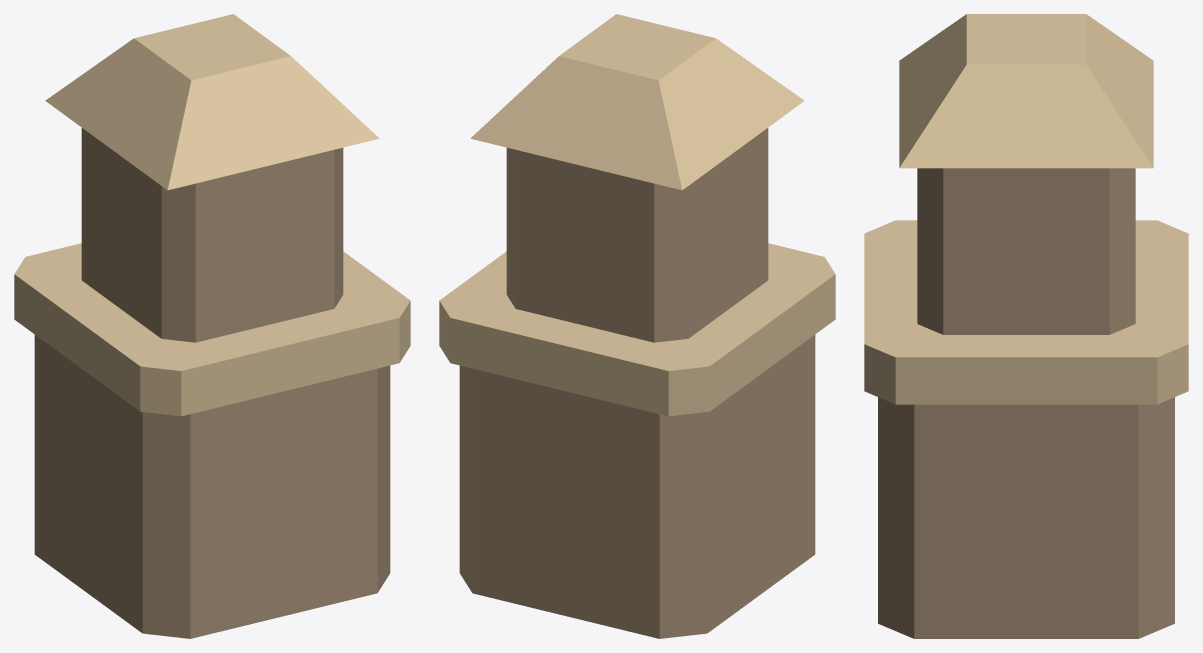
Rendered from parapet_finial.glb.
The picture shows the model from 3 angles, left to right: view 1: azimuth 30°, elevation 25°; view 2: azimuth 150°, elevation 25°; view 3: azimuth 270°, elevation 25°; orthographic projection. The views are drawn at different scales.
Parts seen in each view (by area): view 1: Parapet finial; view 2: Parapet finial; view 3: Parapet finial.
Part boxes in pixels (box(x1,y1,x2,y2)): Parapet finial: box(14, 14, 410, 638); Parapet finial: box(439, 14, 835, 638); Parapet finial: box(864, 14, 1188, 638).
Bounding box in the file's own units: 0.312 × 0.57 × 0.312.
